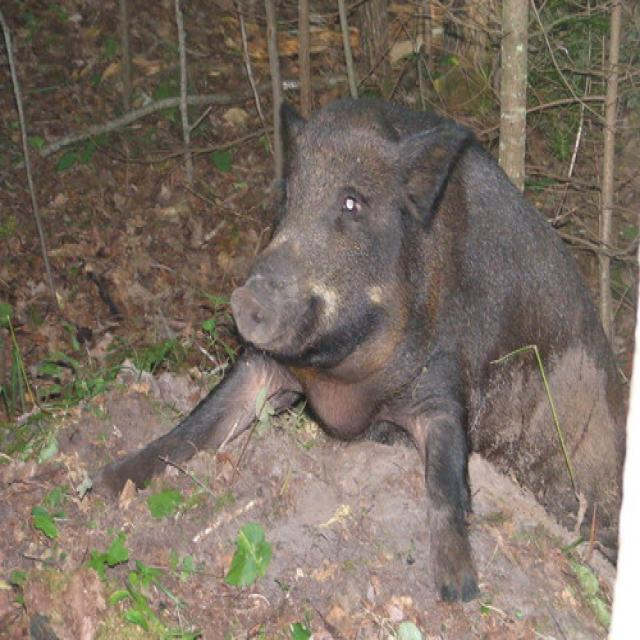boar: (77, 78, 640, 616)
